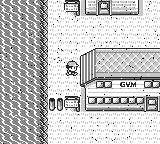captura: (0, 0, 40, 143)
leer: (65, 0, 80, 16), (65, 96, 80, 111)
main: (66, 62, 78, 76)
mo: (40, 0, 48, 144)
no-caminable: (81, 49, 159, 111), (112, 0, 139, 15), (49, 97, 63, 111), (85, 0, 97, 15)
puerta: (146, 97, 158, 111), (98, 1, 110, 15)
